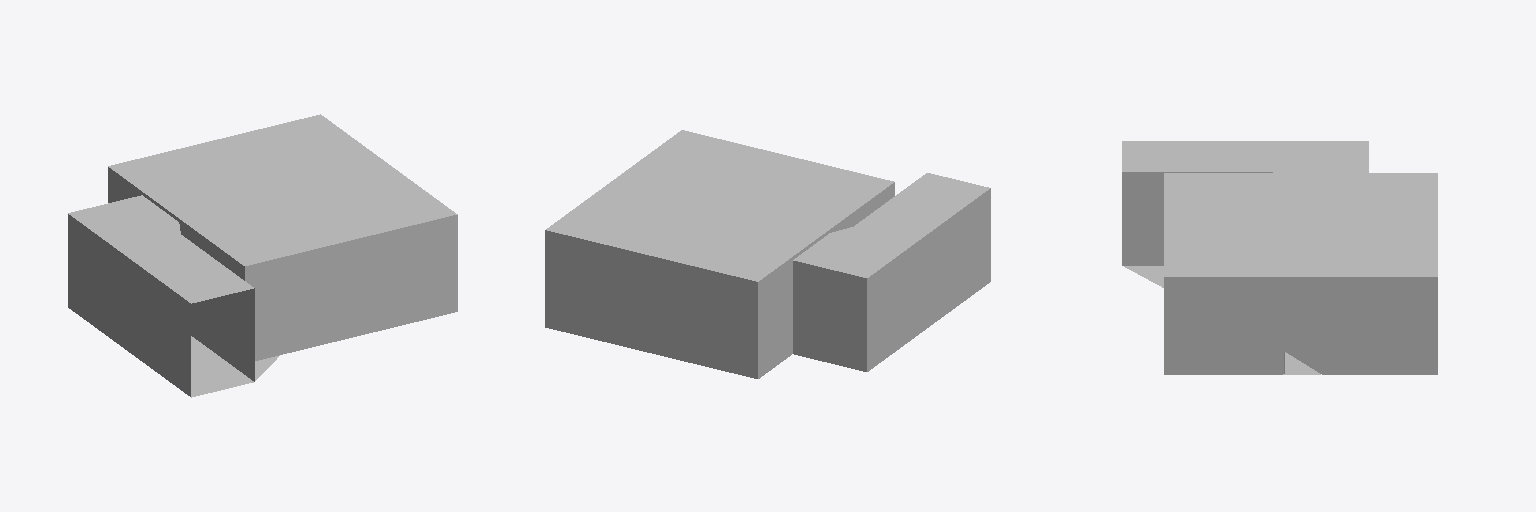
File: Room 2 updated.obj
The picture shows the model from 3 angles: view 1: azimuth 30°, elevation 25°; view 2: azimuth 150°, elevation 25°; view 3: azimuth 270°, elevation 25°; orthographic projection.
Visible parts, largest first — view 1: Outer_Corridor_With_Room_Cube.004; view 2: Outer_Corridor_With_Room_Cube.004; view 3: Outer_Corridor_With_Room_Cube.004.
Boxes of the visible parts, <box> form: Outer_Corridor_With_Room_Cube.004: <box>68,114,457,397</box>; Outer_Corridor_With_Room_Cube.004: <box>545,130,990,378</box>; Outer_Corridor_With_Room_Cube.004: <box>1122,141,1437,374</box>.
Size of the model in its own units: 8.45 by 2.74 by 8.04.